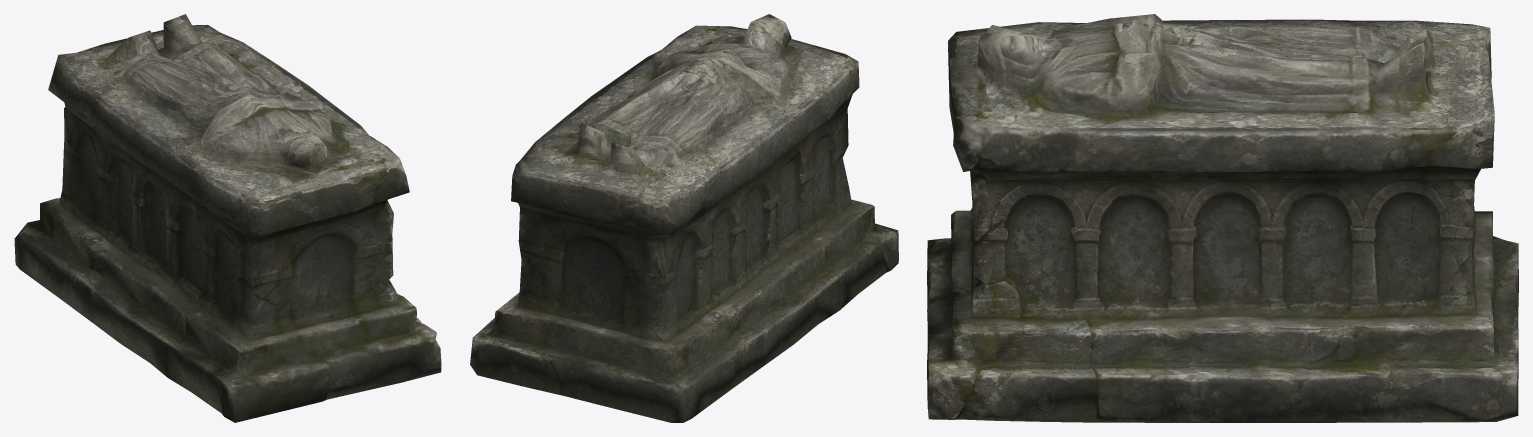
Rendered from sarcophagus.glb.
The picture shows the model from 3 angles, left to right: view 1: azimuth 30°, elevation 25°; view 2: azimuth 150°, elevation 25°; view 3: azimuth 270°, elevation 25°; orthographic projection. The views are drawn at different scales.
Visible parts, largest first — view 1: tripo_node_3f43840f-0a5b-4e7d-959a-13a72be8e146; view 2: tripo_node_3f43840f-0a5b-4e7d-959a-13a72be8e146; view 3: tripo_node_3f43840f-0a5b-4e7d-959a-13a72be8e146.
Part boxes in pixels (x1,y1,x2,y2): tripo_node_3f43840f-0a5b-4e7d-959a-13a72be8e146: (14,14,441,422); tripo_node_3f43840f-0a5b-4e7d-959a-13a72be8e146: (470,14,898,422); tripo_node_3f43840f-0a5b-4e7d-959a-13a72be8e146: (927,14,1518,422).
Bounding box in the file's own units: 0.5732 × 0.6093 × 1.
Materials: 1 (1 with a texture image).
